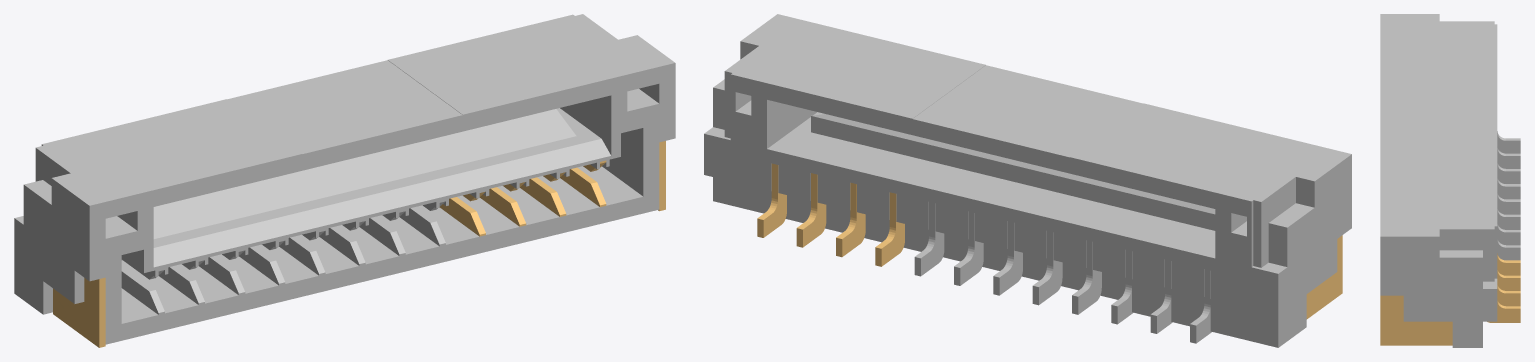
Rendered from SM12B-GHS-TB.obj.
3 views of the same model, side by side, from view 1: azimuth 30°, elevation 25°; view 2: azimuth 150°, elevation 25°; view 3: azimuth 270°, elevation 25° (orthographic). The views are drawn at different scales.
Visible parts, largest first — view 1: SM12B-GHS-TB; view 2: SM12B-GHS-TB; view 3: SM12B-GHS-TB.
Part boxes in pixels (left/top/right/bottom): SM12B-GHS-TB: left=14, top=14, right=675, bottom=347; SM12B-GHS-TB: left=704, top=14, right=1351, bottom=347; SM12B-GHS-TB: left=1380, top=14, right=1520, bottom=347.
Bounding box in the file's own units: 0.0114 × 0.00269 × 0.00303.
